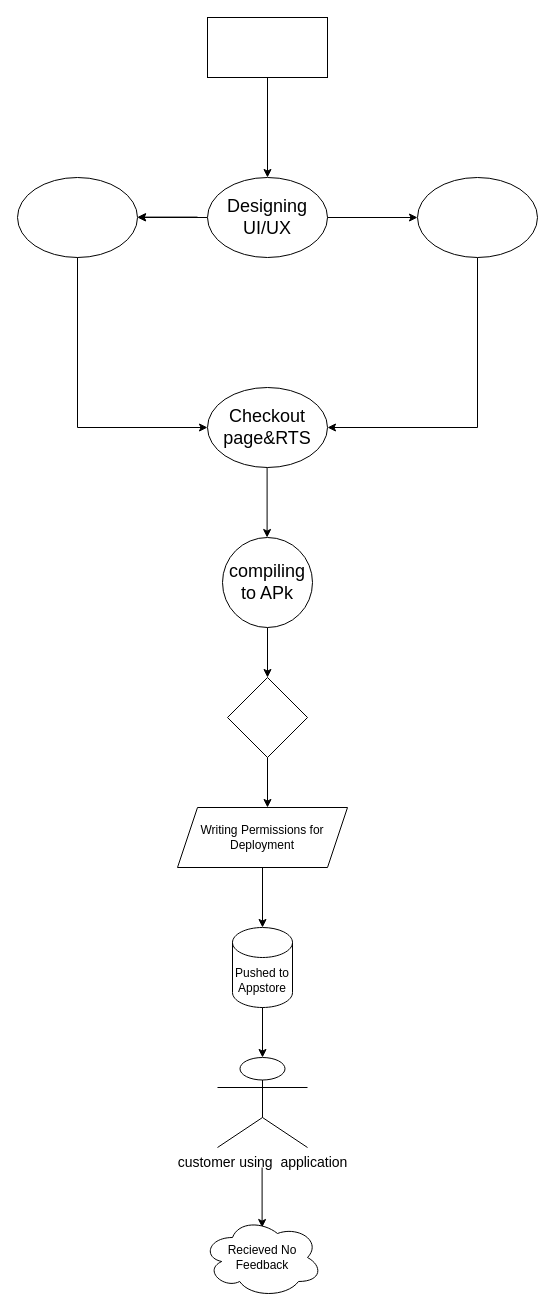
The diagram is 555 pixels wide and 1315 high, and some of its shapes have lost their labels. The shapes that lost their labels are listed below. From the top down, each one's centre as x and y in pixels, then its label:
point (267, 47): ZKEats
point (77, 217): Customer sign up
point (477, 217): Listing Restaurants and their cusines
point (267, 717): No Bugs Found
